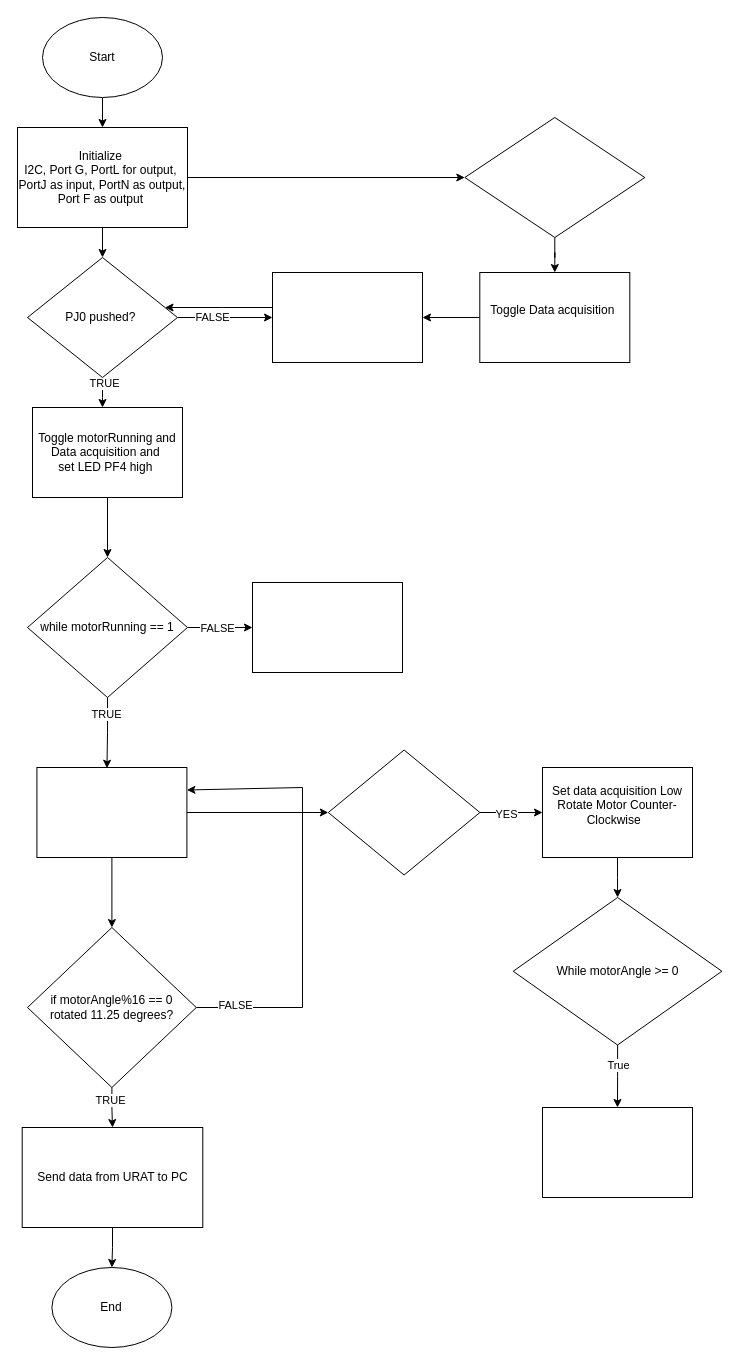
Some shapes in this 740 by 1365 pixel diagram are drawn without their labels. The shapes that lost their labels are listed below. From the top down, each one's centre as x and y in pixels, then its label:
pixel 554 177: PJ1 pushed?
pixel 347 317: Keep checking if button is pushed
pixel 327 627: Set LED PF4 Low
pixel 111 812: Rotate stepper motor 1 step motorAngle += 1, set data acquisition high
pixel 403 812: MotorAngle >= 2048?
pixel 617 1152: Rotate stepper motor 1 step motorAngle - = 1
